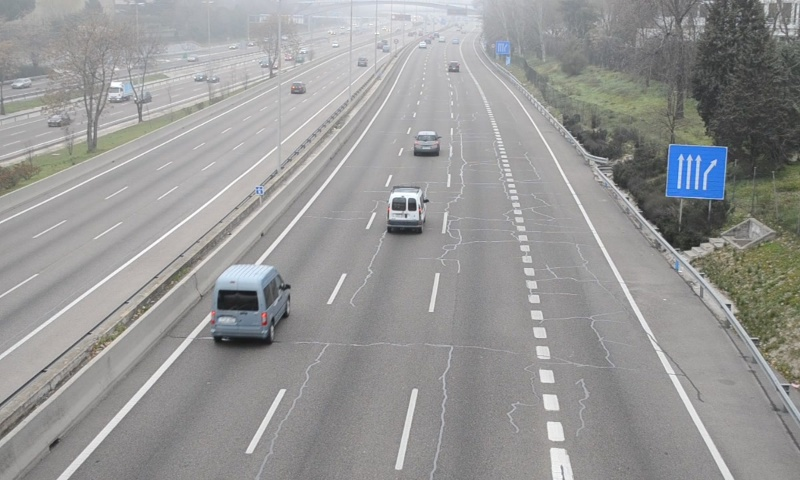car: (413, 130, 441, 156)
van: (210, 264, 290, 339), (386, 187, 426, 230)
